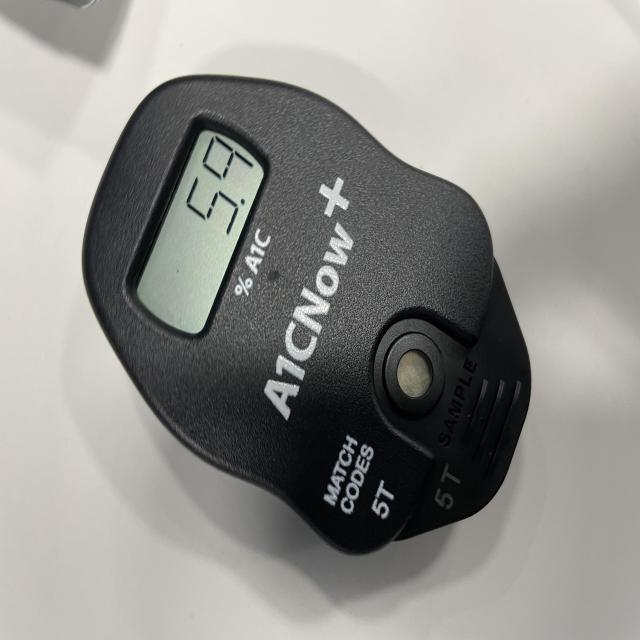hba1c: (81, 75, 533, 559)
